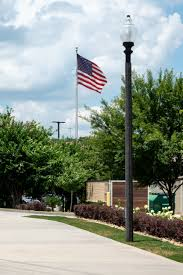light_pole: (120, 18, 140, 244)
